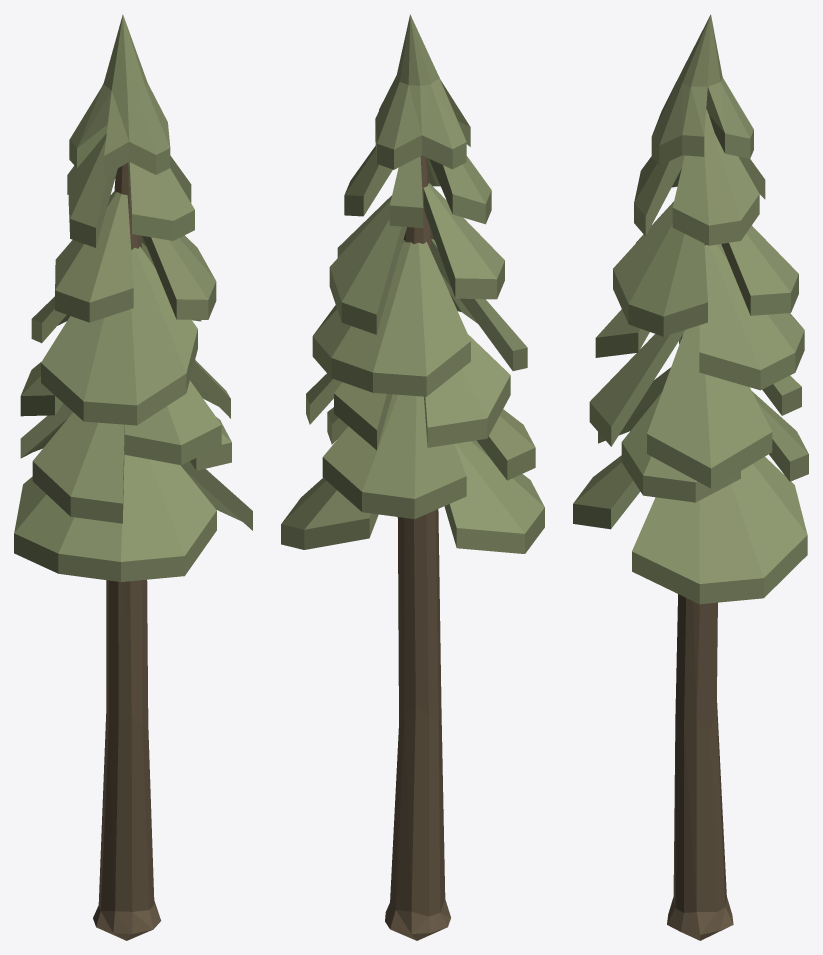
File: SM_Tree_PolyPine_Sparse_02.fbx
3 views of the same model, side by side, from view 1: azimuth 30°, elevation 25°; view 2: azimuth 150°, elevation 25°; view 3: azimuth 270°, elevation 25° (orthographic).
Parts seen in each view (by area): view 1: SM_Tree_PolyPine_Sparse_02; view 2: SM_Tree_PolyPine_Sparse_02; view 3: SM_Tree_PolyPine_Sparse_02.
Part boxes in pixels (left/top/right/bottom): SM_Tree_PolyPine_Sparse_02: left=14, top=14, right=252, bottom=940; SM_Tree_PolyPine_Sparse_02: left=281, top=14, right=544, bottom=940; SM_Tree_PolyPine_Sparse_02: left=573, top=14, right=808, bottom=940.
Size of the model in its own units: 58.12 by 227 by 52.38.
1 material, 1 textured.
